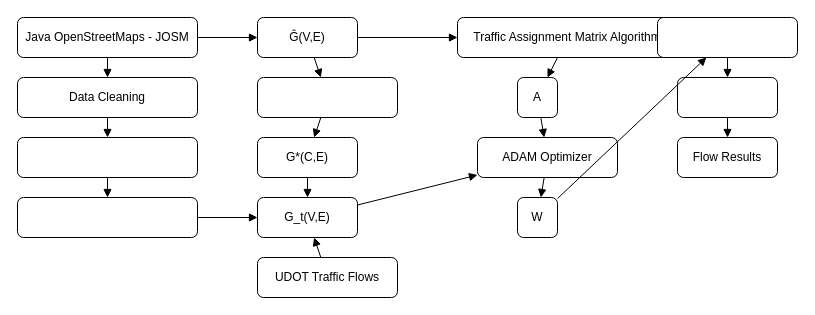
The diagram is 815 pixels wide and 315 high, and some of its shapes have lost their labels. Here are the shapes that lost their labels. From the top down, the centre of each, then its label:
At (727,37): "MATSim XML Plans".
At (327,97): "K-means Clustering".
At (727,97): "MATSim".
At (107,157): "OSM to MATSim".
At (107,217): "XML to Tensor Parser".
